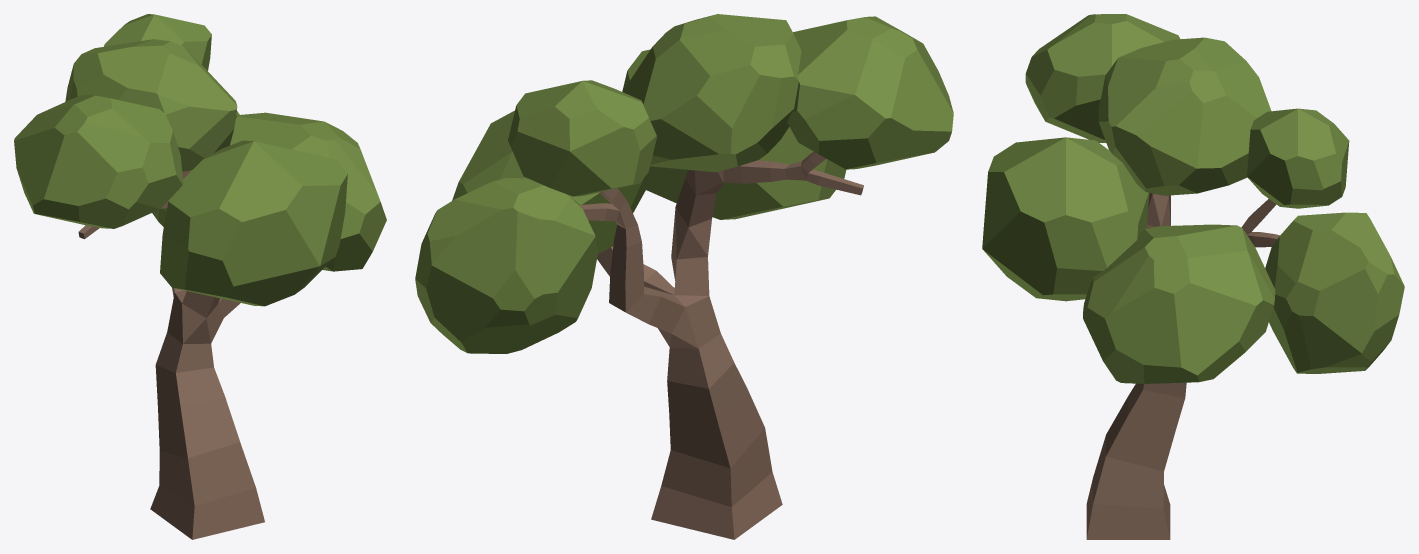
File: Tree_3.fbx
3 renders of one model, left to right at view 1: azimuth 30°, elevation 25°; view 2: azimuth 150°, elevation 25°; view 3: azimuth 270°, elevation 25°, orthographic. The views are drawn at different scales.
Visible parts, largest first — view 1: Leaf_01.004, Wood_01, Leaf_01.001, Leaf_01.005, Leaf_01.002, Leaf_01.003; view 2: Wood_01, Leaf_01, Leaf_01.005, Leaf_01.001, Leaf_01.003, Leaf_01.004, Leaf_01.002; view 3: Leaf_01.002, Leaf_01.005, Leaf_01.004, Leaf_01, Wood_01, Leaf_01.001, Leaf_01.003.
Part boxes in pixels (box(x1,y1,x2,y2)): Leaf_01.004: box(160, 140, 347, 306); Wood_01: box(78, 170, 264, 539); Leaf_01.001: box(14, 95, 183, 228); Leaf_01.005: box(65, 39, 237, 171); Leaf_01.002: box(230, 112, 386, 271); Leaf_01.003: box(104, 14, 211, 70); Wood_01: box(579, 151, 863, 539); Leaf_01: box(415, 178, 597, 353); Leaf_01.005: box(622, 14, 801, 172); Leaf_01.001: box(787, 16, 953, 169); Leaf_01.003: box(508, 80, 657, 196); Leaf_01.004: box(622, 49, 846, 219); Leaf_01.002: box(452, 110, 652, 253); Leaf_01.002: box(1083, 224, 1275, 383); Leaf_01.005: box(1098, 37, 1271, 195); Leaf_01.004: box(982, 137, 1149, 301); Leaf_01: box(1265, 212, 1404, 373); Wood_01: box(1086, 193, 1279, 539); Leaf_01.001: box(1025, 14, 1180, 142); Leaf_01.003: box(1247, 108, 1349, 208).
Size of the model in its own units: 264 by 297 by 251.
